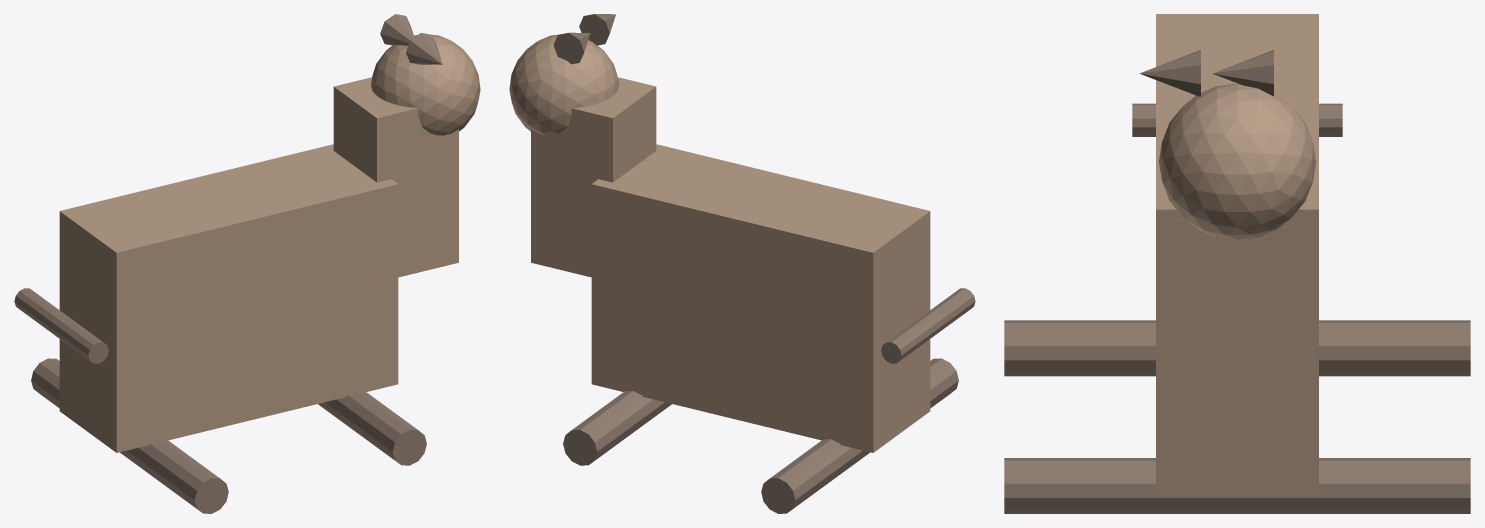
File: pet_horse.glb
The picture shows the model from 3 angles, left to right: view 1: azimuth 30°, elevation 25°; view 2: azimuth 150°, elevation 25°; view 3: azimuth 270°, elevation 25°; orthographic projection. The views are drawn at different scales.
Visible parts, largest first — view 1: part_00, part_01, part_02, part_08, part_06, part_09, part_05, part_04, part_03, part_07; view 2: part_00, part_01, part_02, part_05, part_07, part_09, part_06, part_08, part_03, part_04; view 3: part_00, part_01, part_02, part_07, part_05, part_08, part_06, part_09, part_04, part_03.
Part boxes in pixels (x1=…): part_00: x1=59, y1=144, x2=398, y2=452; part_01: x1=333, y1=77, x2=458, y2=277; part_02: x1=370, y1=34, x2=480, y2=135; part_08: x1=318, y1=391, x2=426, y2=465; part_06: x1=124, y1=439, x2=228, y2=513; part_09: x1=14, y1=288, x2=108, y2=363; part_05: x1=31, y1=358, x2=180, y2=484; part_04: x1=406, y1=33, x2=442, y2=64; part_03: x1=380, y1=14, x2=413, y2=45; part_07: x1=323, y1=391, x2=378, y2=432; part_00: x1=591, y1=144, x2=930, y2=452; part_01: x1=531, y1=77, x2=656, y2=277; part_02: x1=509, y1=34, x2=619, y2=135; part_05: x1=761, y1=439, x2=869, y2=513; part_07: x1=563, y1=391, x2=671, y2=465; part_09: x1=881, y1=288, x2=975, y2=363; part_06: x1=816, y1=358, x2=958, y2=484; part_08: x1=617, y1=391, x2=671, y2=432; part_03: x1=553, y1=32, x2=590, y2=64; part_04: x1=579, y1=14, x2=615, y2=45; part_00: x1=1156, y1=14, x2=1318, y2=494; part_01: x1=1175, y1=108, x2=1299, y2=398; part_02: x1=1159, y1=83, x2=1315, y2=239; part_07: x1=1111, y1=458, x2=1470, y2=513; part_05: x1=1111, y1=320, x2=1470, y2=376; part_08: x1=1004, y1=458, x2=1363, y2=513; part_06: x1=1004, y1=320, x2=1363, y2=376; part_09: x1=1132, y1=103, x2=1342, y2=136; part_04: x1=1139, y1=50, x2=1200, y2=96; part_03: x1=1212, y1=50, x2=1273, y2=96.
Size of the model in its own units: 2.47 by 2.03 by 1.66.
